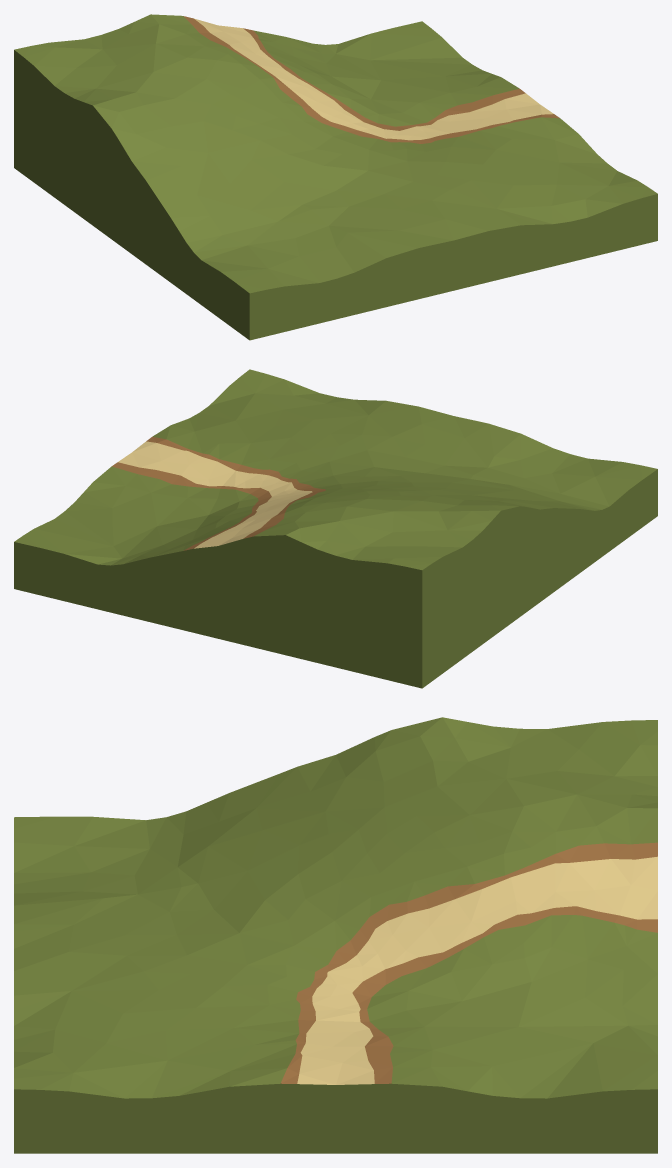
File: Terrian_Road_Bend_HillCorner-04.fbx
The picture shows the model from 3 angles, top to bottom: view 1: azimuth 30°, elevation 25°; view 2: azimuth 150°, elevation 25°; view 3: azimuth 270°, elevation 25°; orthographic projection. The views are drawn at different scales.
Parts seen in each view (by area): view 1: Terrian_Road_Bend_HillCorner-04; view 2: Terrian_Road_Bend_HillCorner-04; view 3: Terrian_Road_Bend_HillCorner-04.
Boxes of the visible parts, x1,y1,x2,y2 form: Terrian_Road_Bend_HillCorner-04: [14, 14, 657, 340]; Terrian_Road_Bend_HillCorner-04: [14, 369, 657, 688]; Terrian_Road_Bend_HillCorner-04: [14, 717, 657, 1153].
Size of the model in its own units: 3600 by 1013 by 3600.
Materials: 1 (1 with a texture image).
